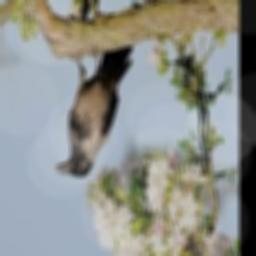Crow: (57, 50, 134, 178)
